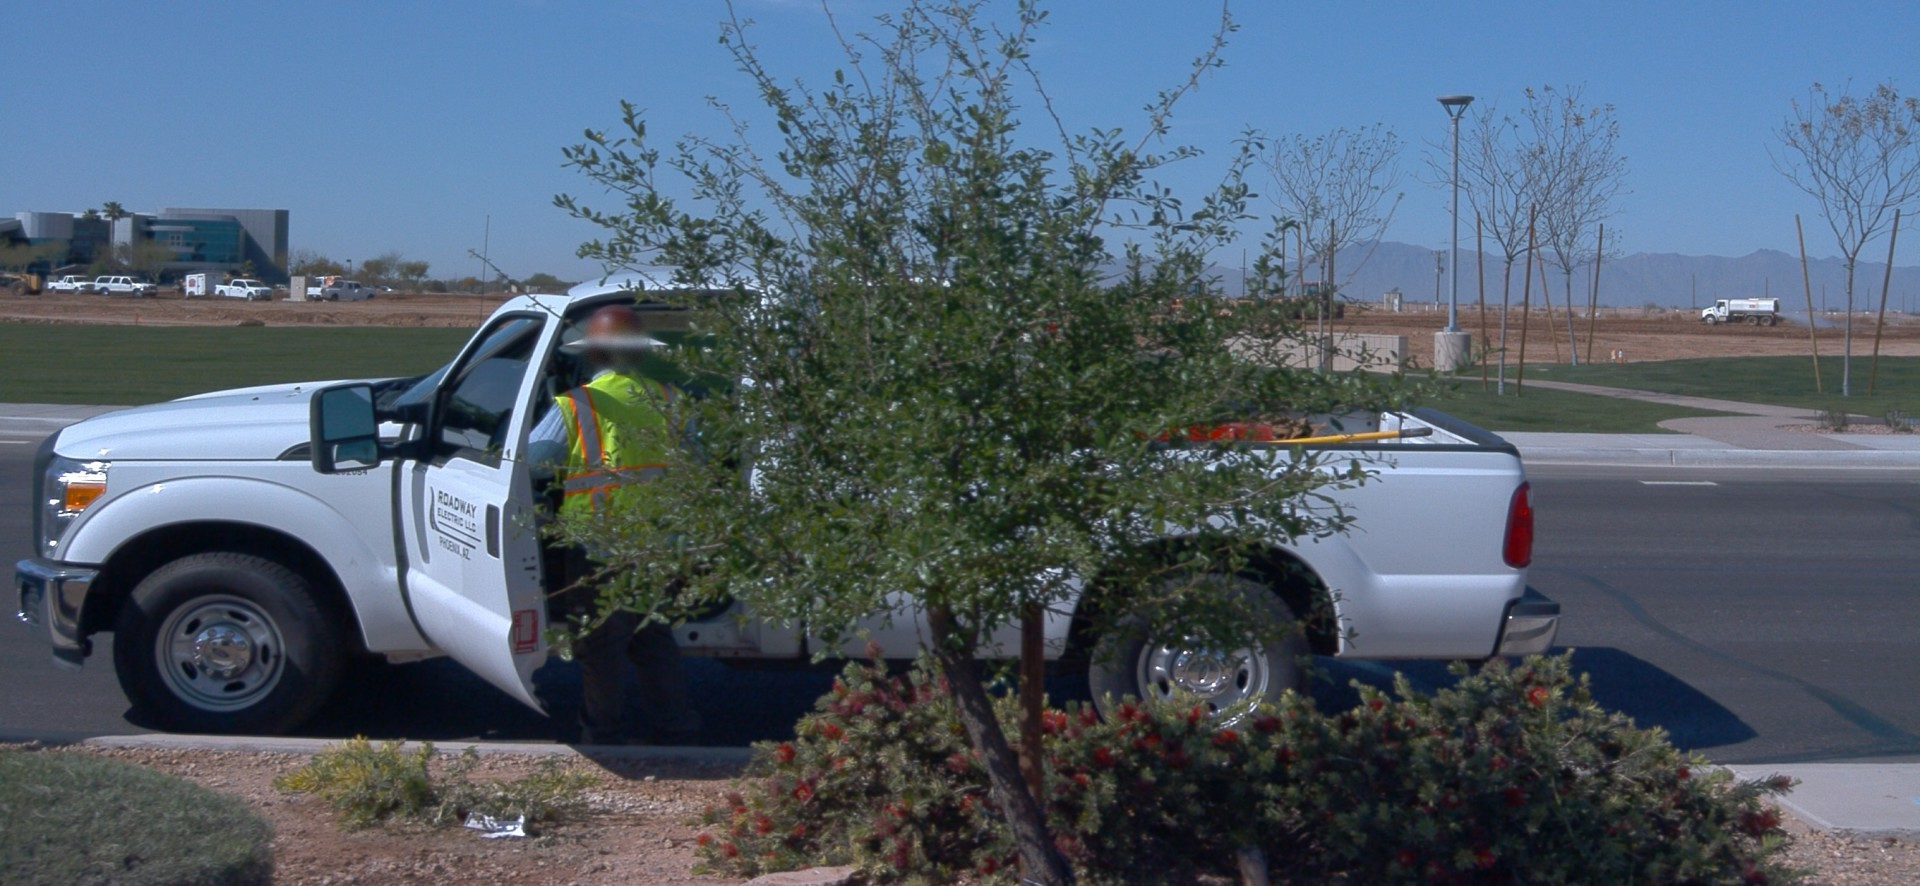TYPE_PEDESTRIAN: (530, 303, 713, 753)
TYPE_VEHICLE: (11, 267, 1567, 764), (1700, 296, 1788, 328), (1278, 279, 1344, 321), (92, 274, 158, 298), (309, 284, 378, 305), (214, 279, 274, 303), (182, 272, 228, 300), (0, 270, 46, 297), (182, 273, 238, 294), (45, 274, 96, 297), (43, 275, 93, 296), (1218, 297, 1259, 316)
